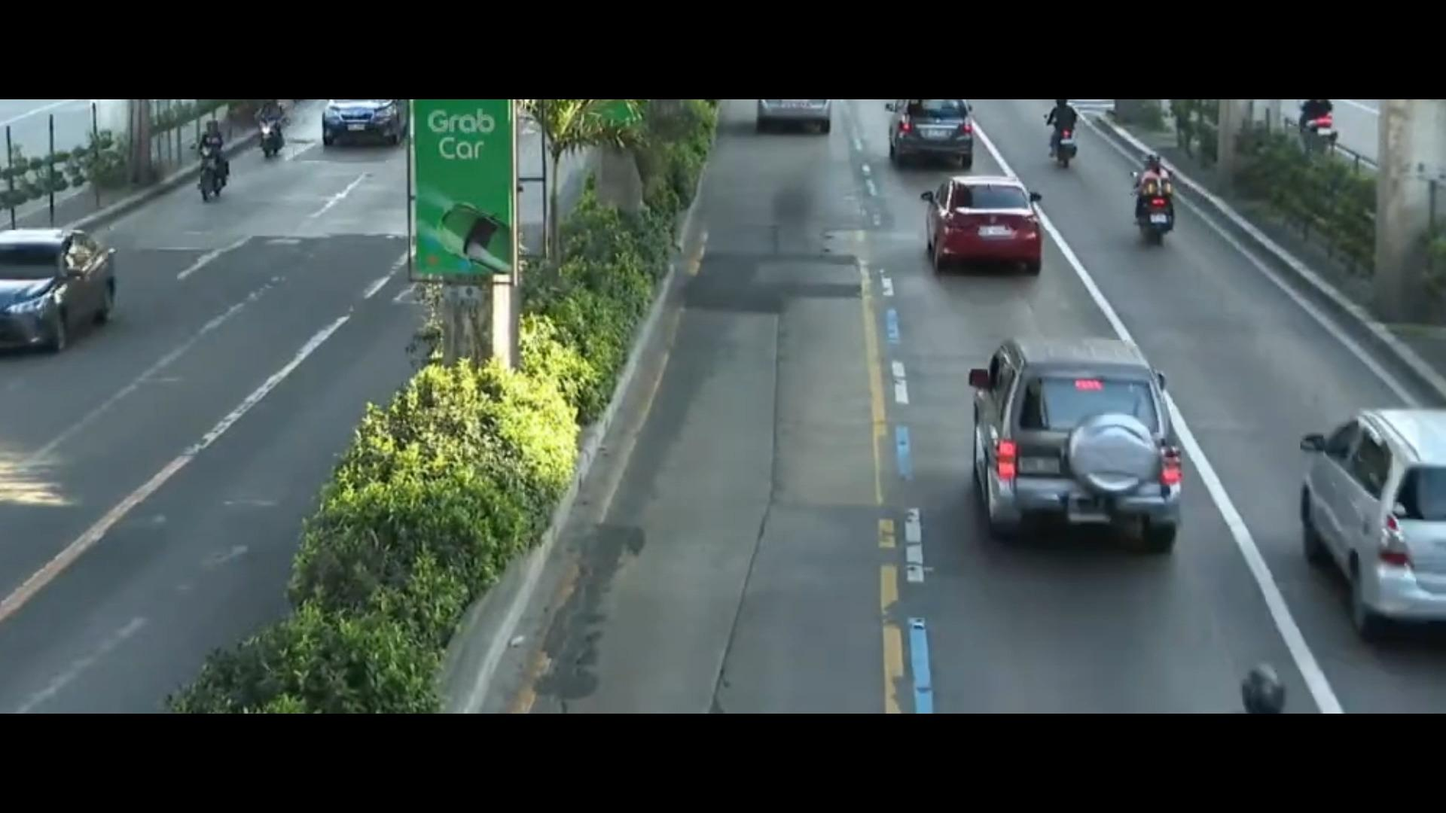Motorcycle: (1100, 143, 1209, 237), (183, 104, 239, 202), (1031, 96, 1098, 154), (250, 104, 304, 160)
SUV: (936, 315, 1212, 569), (1276, 407, 1446, 661), (883, 96, 980, 164), (296, 101, 406, 157)
Sedan: (0, 217, 138, 390), (893, 160, 1059, 300)
